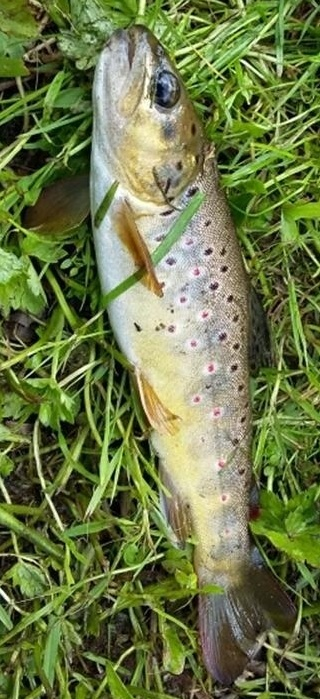Salmo trutta subsp. fario: (20, 20, 300, 679)
